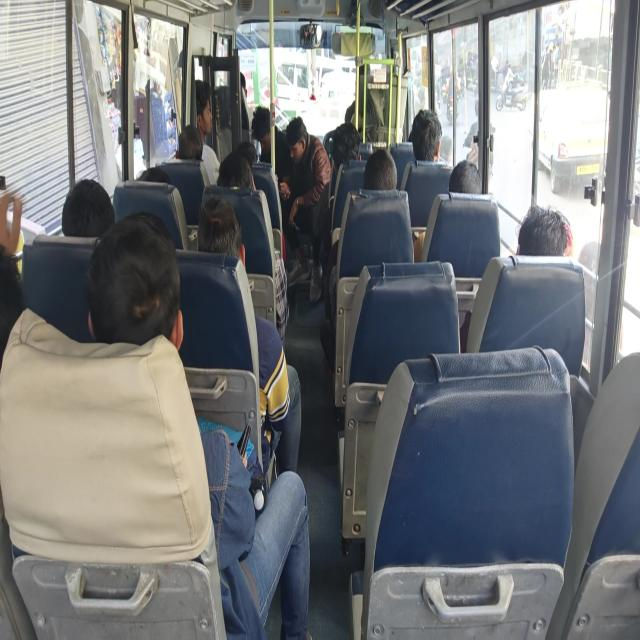person: (98, 243, 168, 377), (508, 212, 590, 269), (183, 202, 238, 286), (55, 180, 111, 248), (126, 153, 180, 217), (408, 108, 448, 184), (185, 94, 232, 148), (161, 110, 204, 168), (351, 153, 398, 202), (219, 158, 268, 199), (444, 165, 490, 207), (223, 56, 255, 110), (328, 124, 358, 180), (290, 113, 317, 170), (351, 59, 378, 102), (248, 114, 276, 145)
